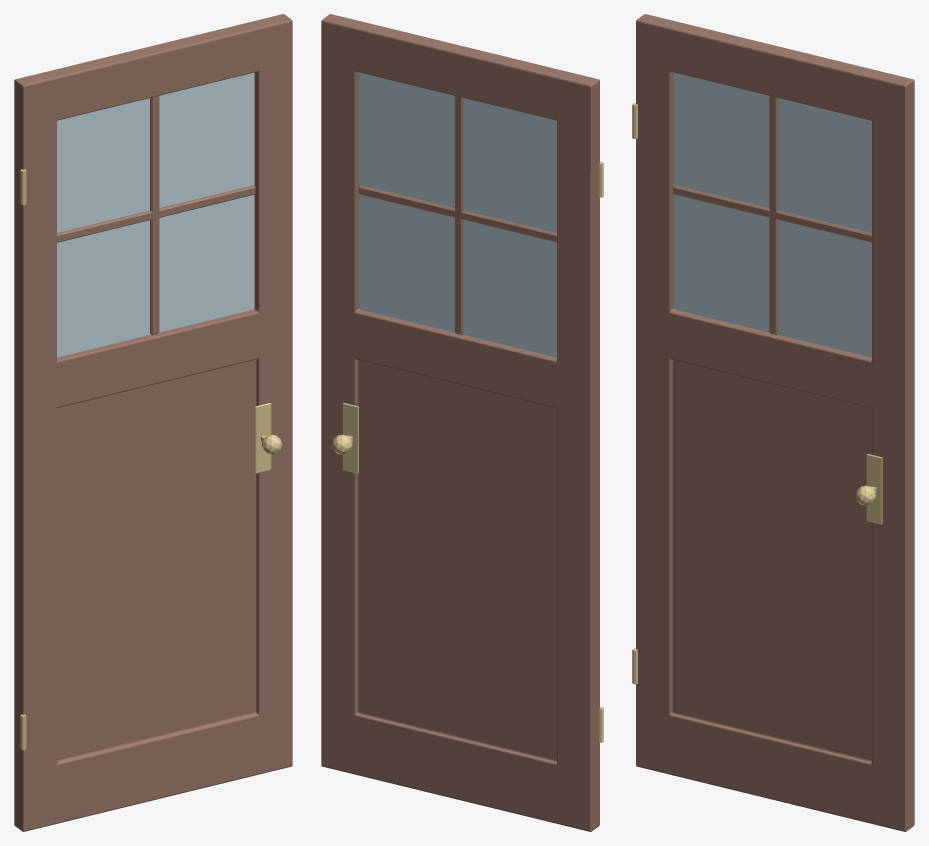
Rendered from door_leaf_back.glb.
3 renders of one model, left to right at view 1: azimuth 30°, elevation 25°; view 2: azimuth 150°, elevation 25°; view 3: azimuth 330°, elevation 25°, orthographic.
Parts seen in each view (by area): view 1: door_leaf_back_door, door_leaf_back_glass, door_leaf_back_brass; view 2: door_leaf_back_door, door_leaf_back_glass, door_leaf_back_brass; view 3: door_leaf_back_door, door_leaf_back_glass, door_leaf_back_brass.
Boxes of the visible parts, x1,y1,x2,y2 form: door_leaf_back_door: [14, 14, 292, 831]; door_leaf_back_glass: [57, 72, 254, 357]; door_leaf_back_brass: [20, 169, 282, 750]; door_leaf_back_door: [321, 14, 599, 831]; door_leaf_back_glass: [359, 72, 557, 357]; door_leaf_back_brass: [332, 161, 603, 742]; door_leaf_back_door: [636, 14, 914, 831]; door_leaf_back_glass: [674, 72, 871, 357]; door_leaf_back_brass: [632, 103, 882, 684].
Bounding box in the file's own units: 0.848 × 2.22 × 0.206.
